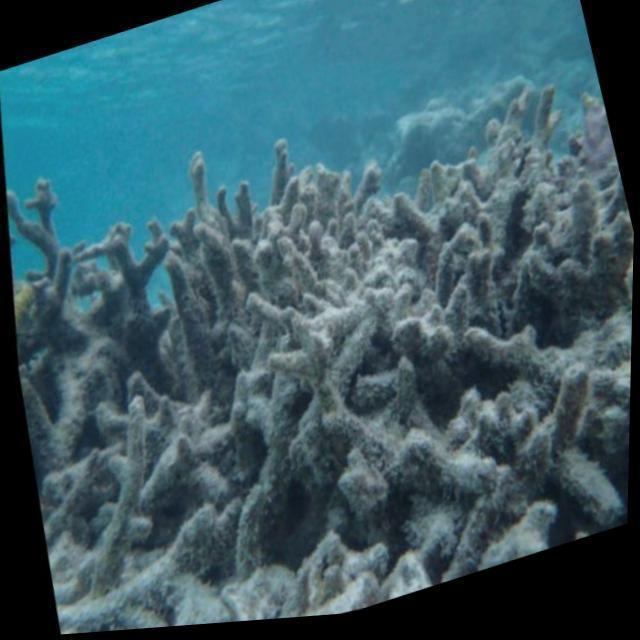Dead Coral: (0, 29, 639, 640)
